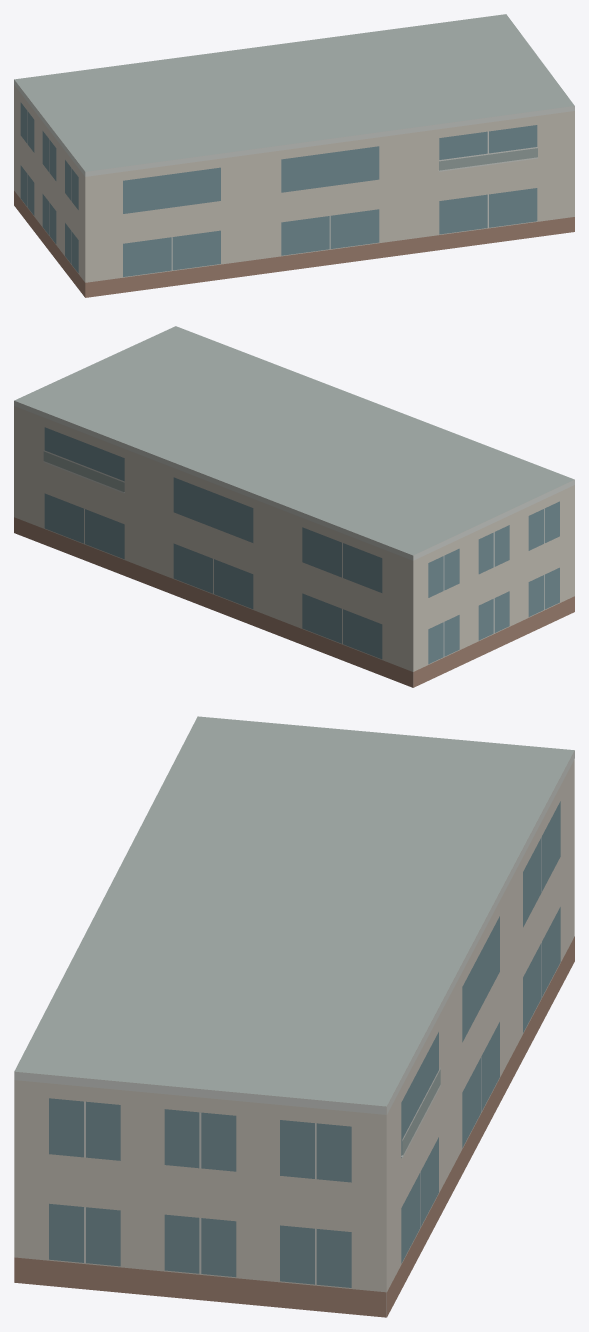
Rendered from survey-upis-32486039.glb.
3 views of the same model, one above another, from view 1: azimuth 30°, elevation 25°; view 2: azimuth 150°, elevation 25°; view 3: azimuth 270°, elevation 25° (orthographic). The views are drawn at different scales.
Parts seen in each view (by area): view 1: survey-upis-32486039.tmp; view 2: survey-upis-32486039.tmp; view 3: survey-upis-32486039.tmp.
Part boxes in pixels (box(x1,y1,x2,y2)): survey-upis-32486039.tmp: box(14, 14, 574, 297); survey-upis-32486039.tmp: box(14, 326, 574, 687); survey-upis-32486039.tmp: box(14, 716, 574, 1317).
Size of the model in its own units: 24.2 by 6.1 by 14.7.
